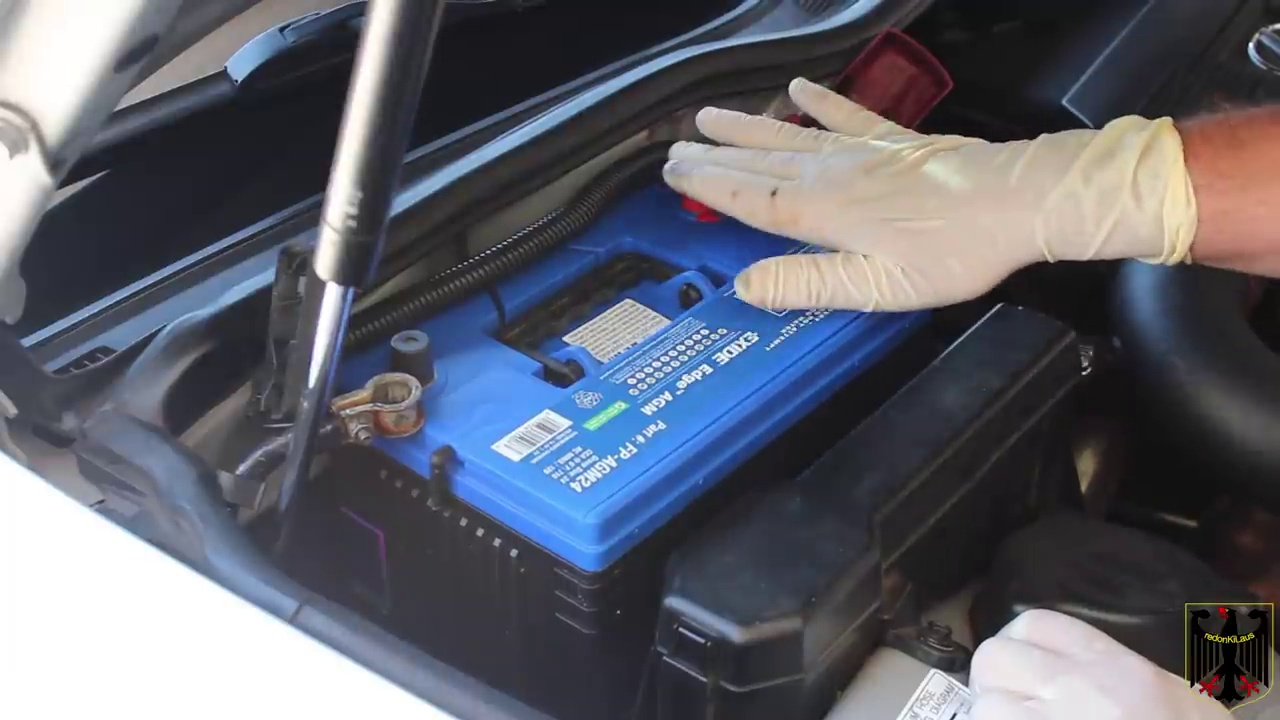battery: (315, 136, 923, 527)
pos_touched: (638, 44, 961, 241)
